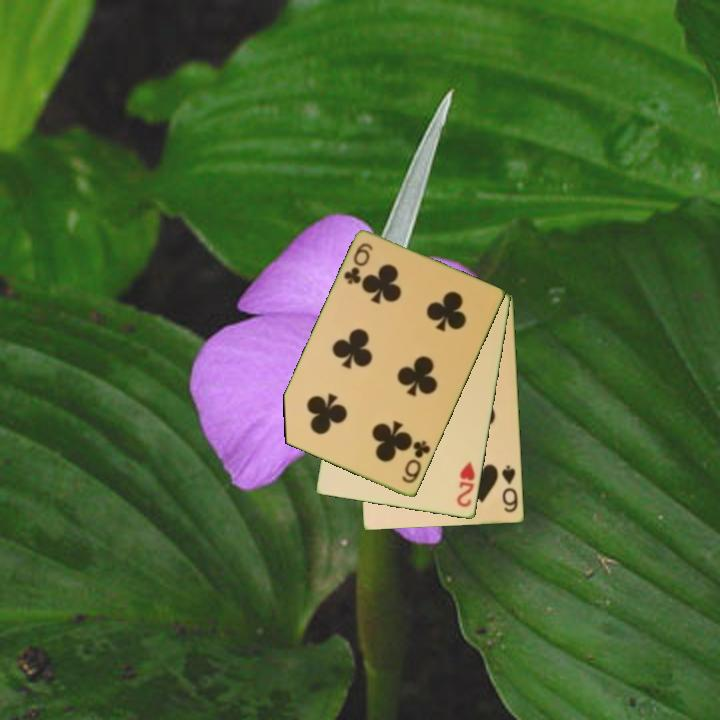2h: (453, 459, 478, 510)
6c: (399, 437, 434, 487), (340, 240, 376, 288)
6s: (499, 462, 521, 516)
